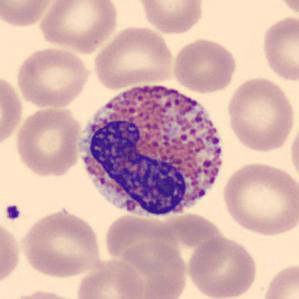Eosinophil: (70, 73, 232, 226)
Platelets: (3, 202, 22, 222)
RBC: (18, 207, 104, 280), (220, 159, 298, 237), (224, 75, 297, 154), (92, 24, 175, 90), (13, 105, 83, 178), (150, 216, 231, 279), (14, 45, 92, 109), (184, 233, 259, 299), (36, 0, 121, 54), (117, 238, 188, 299), (102, 216, 178, 271), (171, 36, 238, 94), (74, 257, 146, 299), (259, 14, 298, 83), (135, 0, 207, 36), (0, 70, 25, 150), (0, 216, 22, 289), (0, 0, 54, 28), (260, 261, 298, 299), (6, 287, 84, 299), (287, 118, 299, 184), (274, 0, 299, 18)
